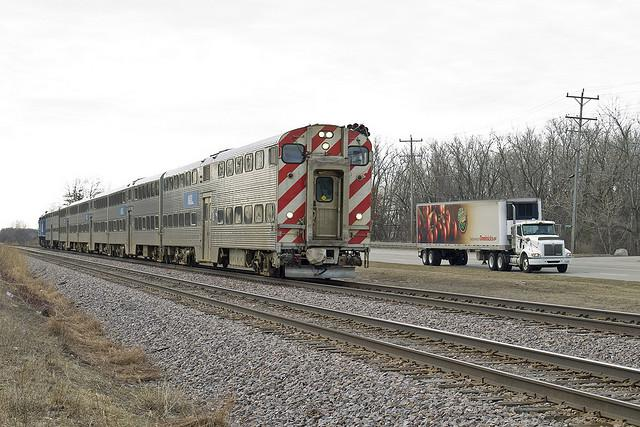Train: (40, 122, 373, 278)
